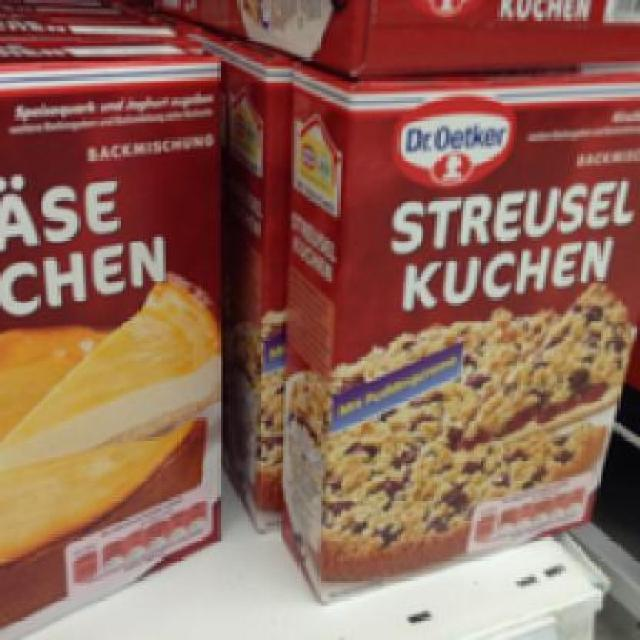Cake: (274, 62, 637, 595), (0, 39, 229, 632)
